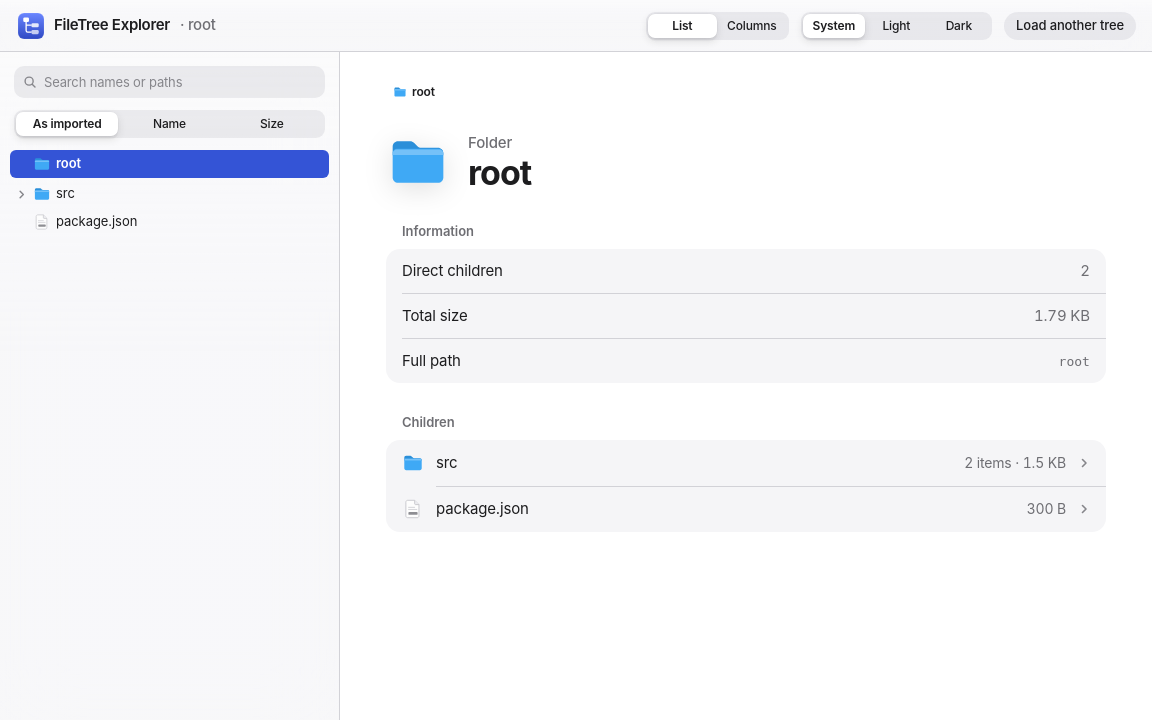
Scenario: browsing the tree › expands a folder to reveal its children
The width and height of the screenshot is (1152, 720).
What coordinates should you click on to do the following:
click the button named "Expand src"
I would click on:
 (21, 194)
Its box is [12,185,30,203].
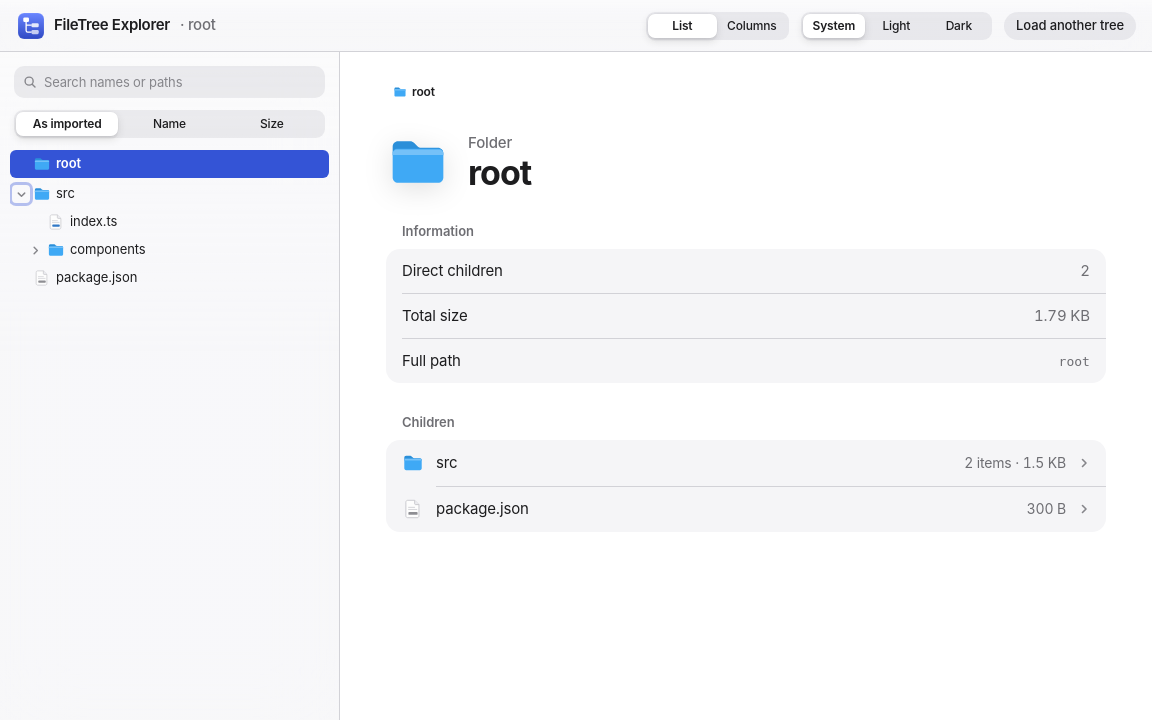
Result: the list item "src" is expanded at [12,185,75,203]
